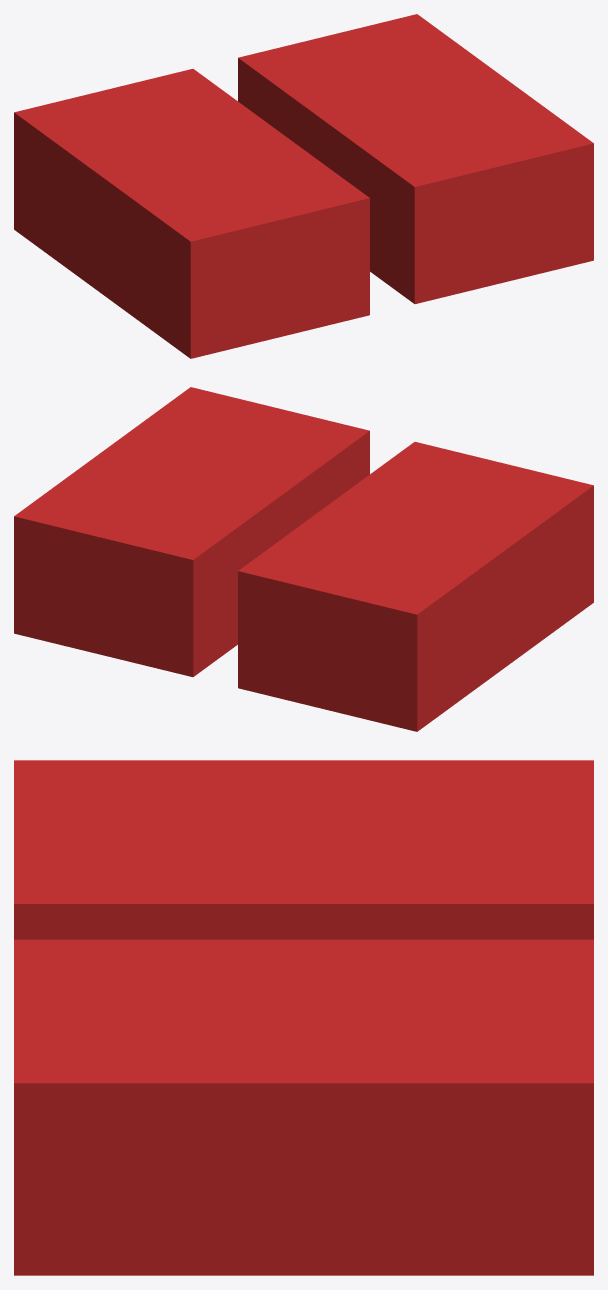
File: skomma__male_sheo_red_01.glb
3 renders of one model, top to bottom at view 1: azimuth 30°, elevation 25°; view 2: azimuth 150°, elevation 25°; view 3: azimuth 270°, elevation 25°, orthographic. The views are drawn at different scales.
Visible parts, largest first — view 1: Left_Shoe, Right_Shoe; view 2: Left_Shoe, Right_Shoe; view 3: Right_Shoe, Left_Shoe.
Boxes of the visible parts, bbox=[...] form: Left_Shoe: bbox=[14, 69, 369, 358]; Right_Shoe: bbox=[238, 14, 593, 303]; Left_Shoe: bbox=[238, 442, 593, 731]; Right_Shoe: bbox=[14, 387, 369, 676]; Right_Shoe: bbox=[14, 939, 593, 1275]; Left_Shoe: bbox=[14, 760, 593, 939].
Size of the model in its own units: 1.08 by 0.3 by 0.82.
